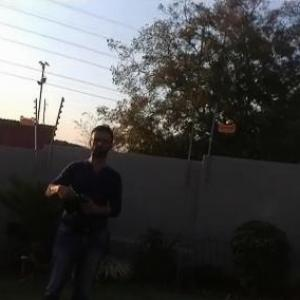follow: (33, 112, 128, 299)
